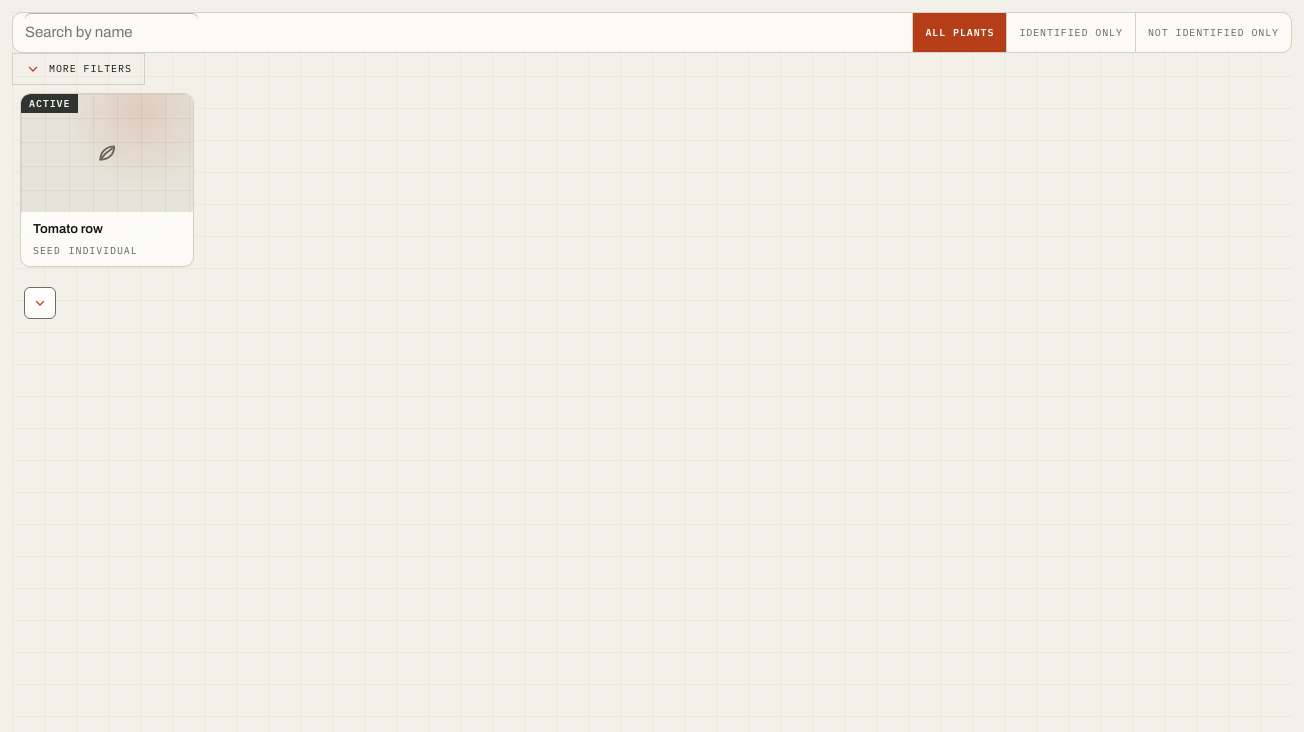
PlantList — search and pagination › loads the next page on "Load more", keeping the earlier page visible
Expected: the text "Tomato row" is shown, [33,222,103,236]
Expected: the text "Basil pot" is not shown
Click the button named "Load more".
click(40, 303)  # box [24,287,56,319]
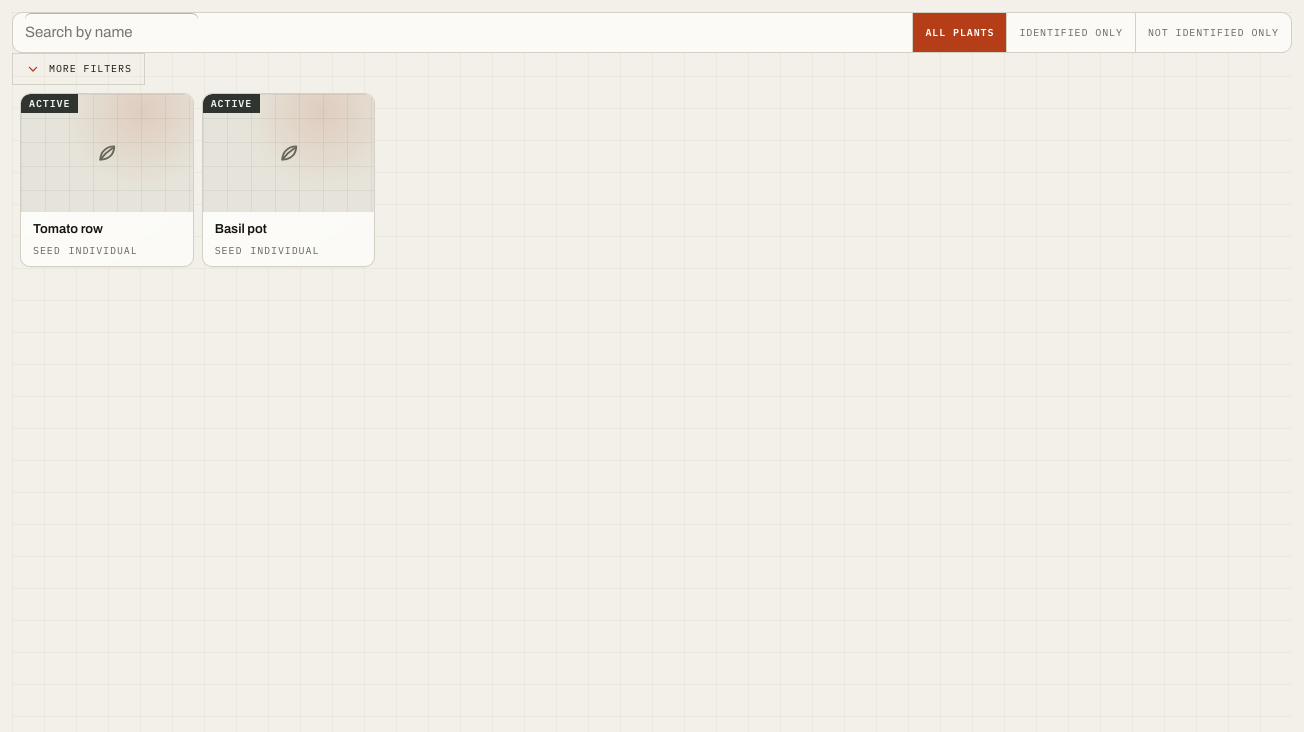
Expected: the text "Tomato row" is shown, [33,222,103,236]
Expected: the text "Basil pot" is shown, [215,222,267,236]
